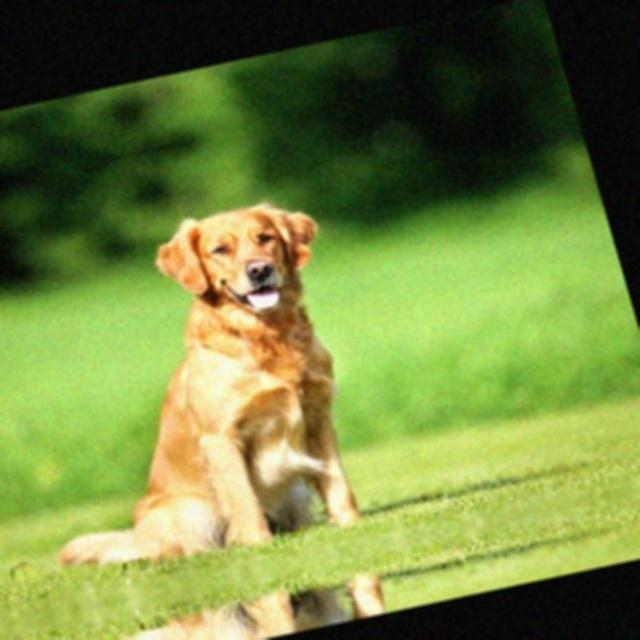dog: (0, 182, 400, 582), (80, 564, 428, 640), (0, 54, 270, 130)
